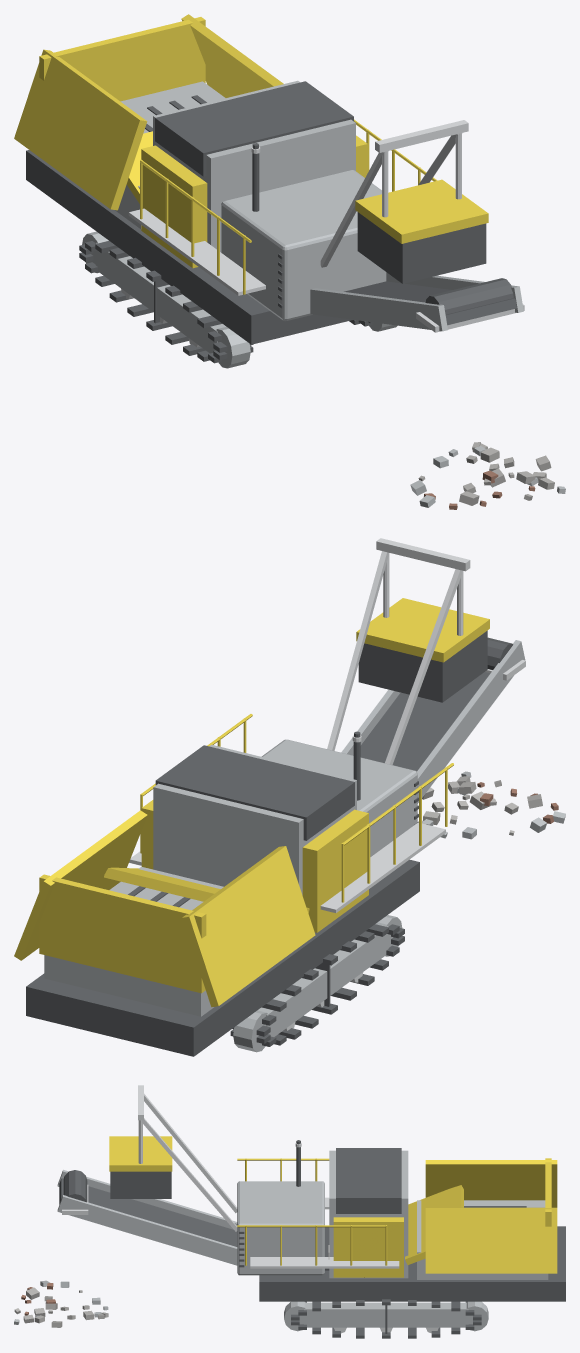
Rendered from demolition-and-site-clearance-demolition-and-site-clea-d649636e__35695.glb.
The picture shows the model from 3 angles, top to bottom: view 1: azimuth 30°, elevation 25°; view 2: azimuth 150°, elevation 25°; view 3: azimuth 270°, elevation 25°; orthographic projection. The views are drawn at different scales.
Parts seen in each view (by area): view 1: demolition-and-site-clearance-tracked-crusher; view 2: demolition-and-site-clearance-tracked-crusher; view 3: demolition-and-site-clearance-tracked-crusher.
Boxes of the visible parts, x1,y1,x2,y2 form: demolition-and-site-clearance-tracked-crusher: (14,14,565,509); demolition-and-site-clearance-tracked-crusher: (14,538,565,1056); demolition-and-site-clearance-tracked-crusher: (14,1085,565,1338).
Bounding box in the file's own units: 3.7 × 5.24 × 12.6.
Materials: 7 (2 with a texture image).
